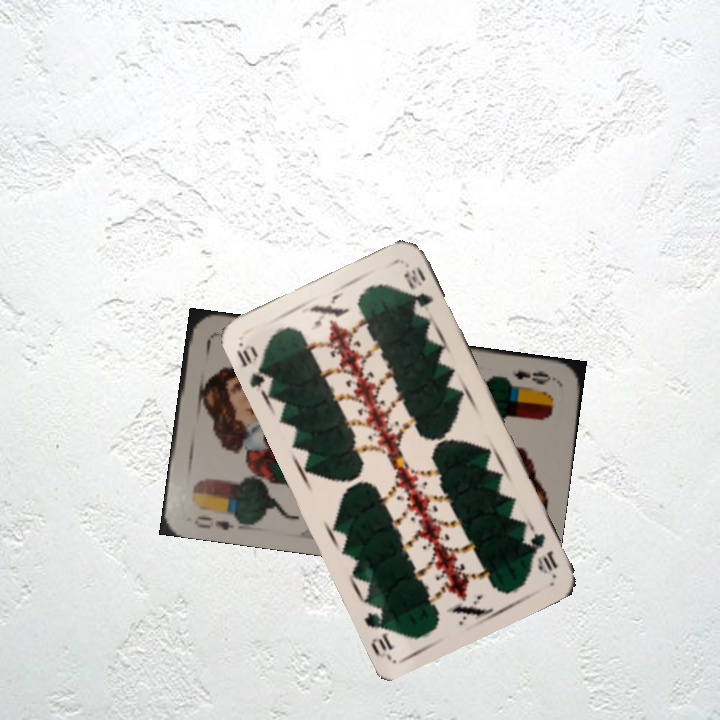EO: (498, 366, 558, 388), (190, 512, 237, 533)
G10: (232, 339, 275, 391), (526, 529, 560, 576)
